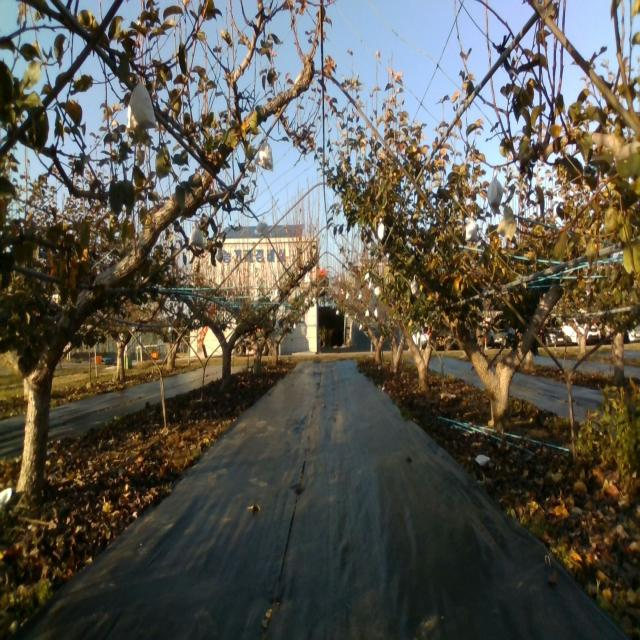pearbags: (125, 80, 155, 132), (486, 176, 503, 217), (254, 140, 274, 170), (188, 227, 205, 251), (466, 217, 478, 242)
